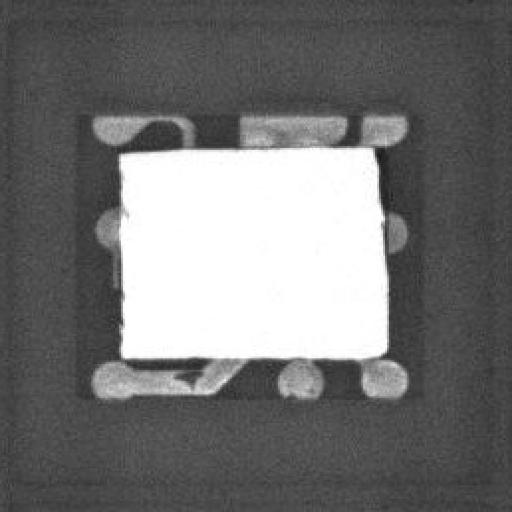DIE_BROKEN: (369, 146, 387, 207)
